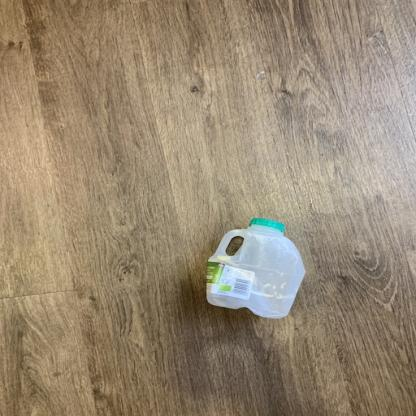trash: (204, 218, 310, 322)
